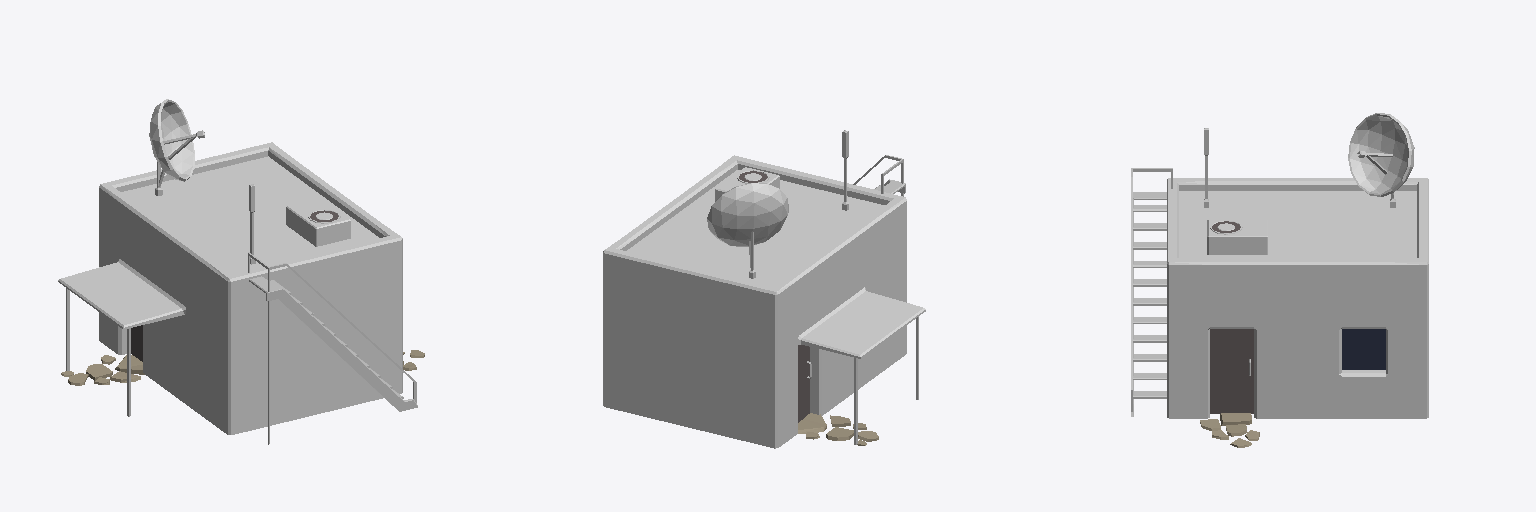
The model's file is building01.obj.
The picture shows the model from 3 angles: view 1: azimuth 30°, elevation 25°; view 2: azimuth 150°, elevation 25°; view 3: azimuth 270°, elevation 25°; orthographic projection.
Parts seen in each view (by area): view 1: Building01; view 2: Building01; view 3: Building01.
Boxes of the visible parts, <box> form: Building01: <box>58,99,424,444</box>; Building01: <box>603,130,925,448</box>; Building01: <box>1131,113,1428,447</box>.
Size of the model in its own units: 5.27 by 4.17 by 4.6.